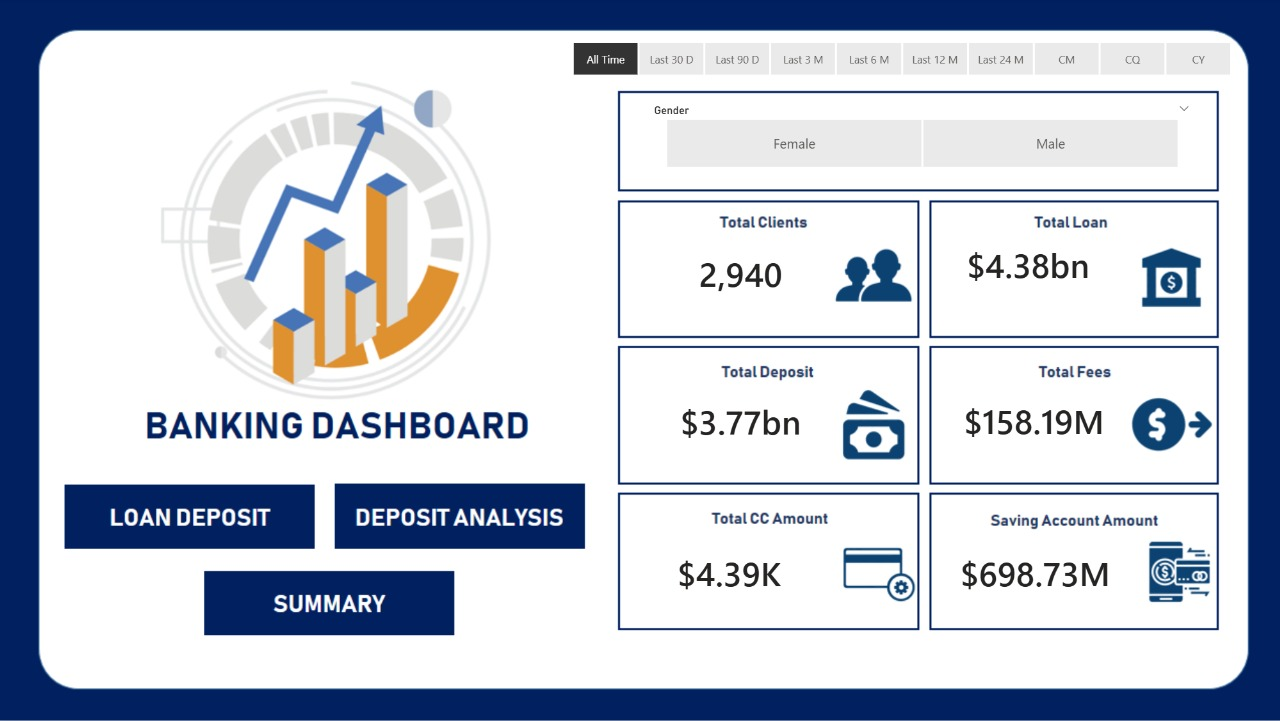

What the dashboard file says about the page in this screenshot:
{"tool":"powerbi","page":{"name":"Home","canvas":[1280,720],"ordinal":0},"visuals":[{"type":"slicer","fields":{"Values":["Gender.Gender"]},"box":[640.3,100.8,558.2,75],"z":0},{"type":"card","fields":{"Values":["DAX Measures.Total Clients"]},"box":[640.3,218.1,198.2,114.9],"z":1000},{"type":"card","fields":{"Values":["DAX Measures.Total Loan"]},"box":[933.4,208.7,184.1,114.9],"z":2000},{"type":"card","fields":{"Values":["DAX Measures.Total Deposit"]},"box":[640.3,374.1,198.2,98.5],"z":3000},{"type":"card","fields":{"Values":["DAX Measures.Total CC Amount"]},"box":[628.5,533.6,198.2,79.7],"z":4000},{"type":"card","fields":{"Values":["DAX Measures.Total Fees"]},"box":[938.1,372.9,185.3,99.7],"z":5000},{"type":"card","fields":{"Values":["DAX Measures.Savings Account"]},"box":[933.4,533.6,198.2,79.7],"z":6000},{"type":"actionButton","box":[63.3,483.1,253.3,65.7],"z":7000},{"type":"actionButton","box":[335.4,485.5,250.9,63.3],"z":8000},{"type":"actionButton","box":[205.2,573.4,255.6,61],"z":9000},{"type":"slicer","fields":{"Values":["Period.Name"]},"box":[546.4,38.7,703.6,45.7],"z":10000}]}

Visuals, with their boxes in screenshot pixels (x1, y1, x2, y2), scaled from the page's 1280x720 canvas onto the 1280x721 screenshot:
slicer - Gender.Gender: <box>640,101,1198,176</box>
card - DAX Measures.Total Clients: <box>640,218,838,333</box>
card - DAX Measures.Total Loan: <box>933,209,1118,324</box>
card - DAX Measures.Total Deposit: <box>640,375,838,473</box>
card - DAX Measures.Total CC Amount: <box>628,534,827,614</box>
card - DAX Measures.Total Fees: <box>938,373,1123,473</box>
card - DAX Measures.Savings Account: <box>933,534,1132,614</box>
actionButton: <box>63,484,317,550</box>
actionButton: <box>335,486,586,550</box>
actionButton: <box>205,574,461,635</box>
slicer - Period.Name: <box>546,39,1250,85</box>
